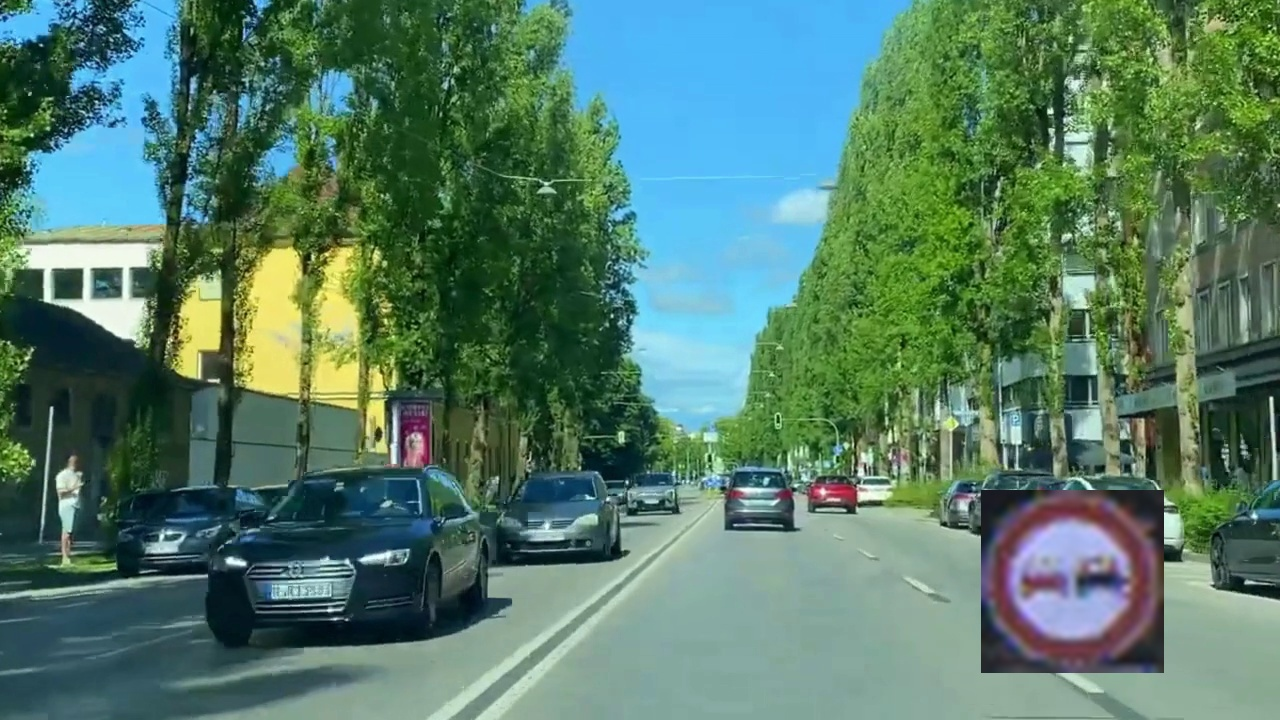No passing: (981, 490, 1164, 673)
